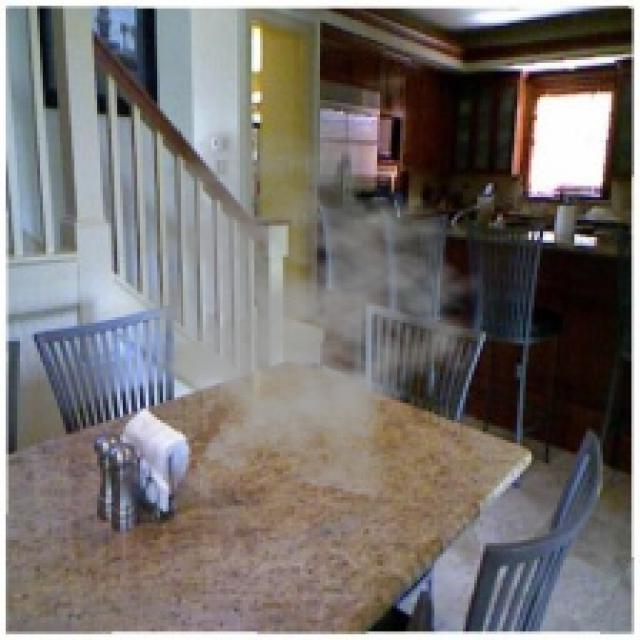smoke: (100, 123, 489, 500)
